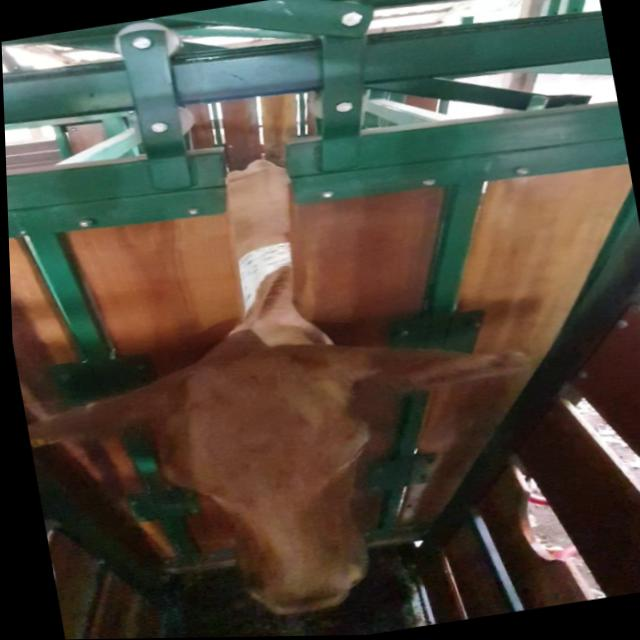cowFace: (138, 344, 392, 634)
